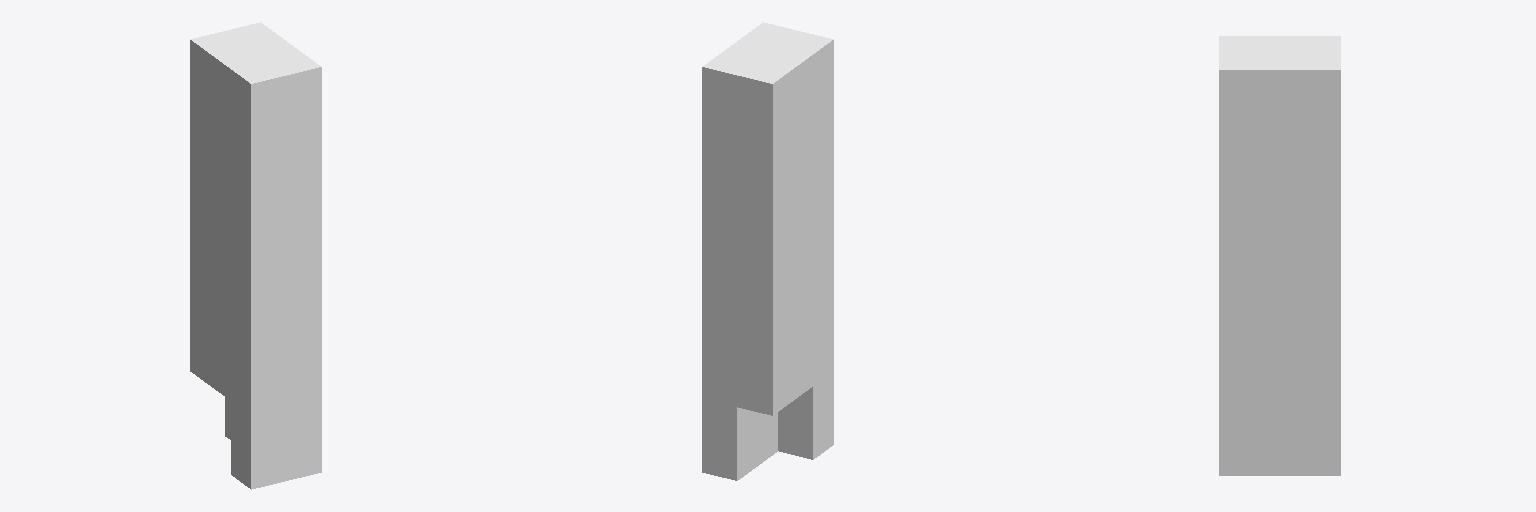
File: HumanNOANIM-2.obj
3 renders of one model, left to right at view 1: azimuth 30°, elevation 25°; view 2: azimuth 150°, elevation 25°; view 3: azimuth 270°, elevation 25°, orthographic.
Visible parts, largest first — view 1: object 1; view 2: object 1; view 3: object 1.
Part boxes in pixels (left/top/right/bottom): object 1: left=190, top=22, right=321, bottom=489; object 1: left=702, top=22, right=833, bottom=480; object 1: left=1219, top=36, right=1340, bottom=475.
Bounding box in the file's own units: 0.2 × 1.1 × 0.3.